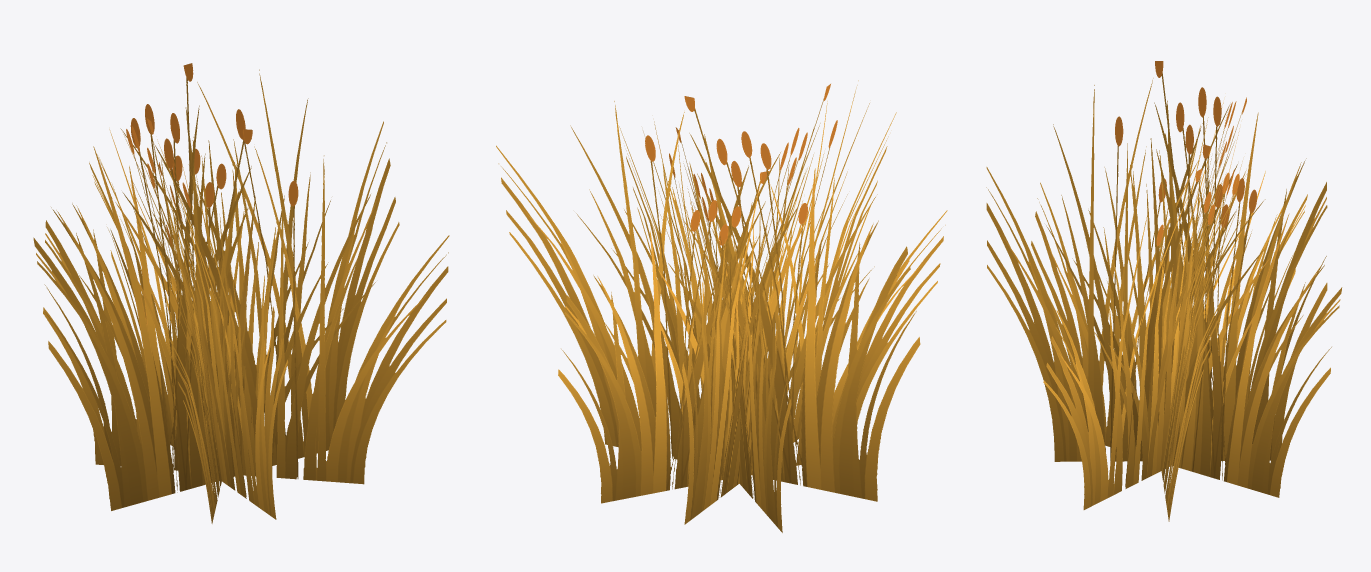
The model's file is savanna_grass_2_burnt1.glb.
3 renders of one model, left to right at view 1: azimuth 30°, elevation 25°; view 2: azimuth 150°, elevation 25°; view 3: azimuth 270°, elevation 25°, orthographic. The views are drawn at different scales.
Parts seen in each view (by area): view 1: savanna_grass_2_burnt1; view 2: savanna_grass_2_burnt1; view 3: savanna_grass_2_burnt1.
Part boxes in pixels (x1,y1,x2,y2): savanna_grass_2_burnt1: (33,63,449,523); savanna_grass_2_burnt1: (496,80,947,532); savanna_grass_2_burnt1: (986,61,1342,521).
Bounding box in the file's own units: 0.9058 × 0.8903 × 0.8105.
1 material, 1 textured.
